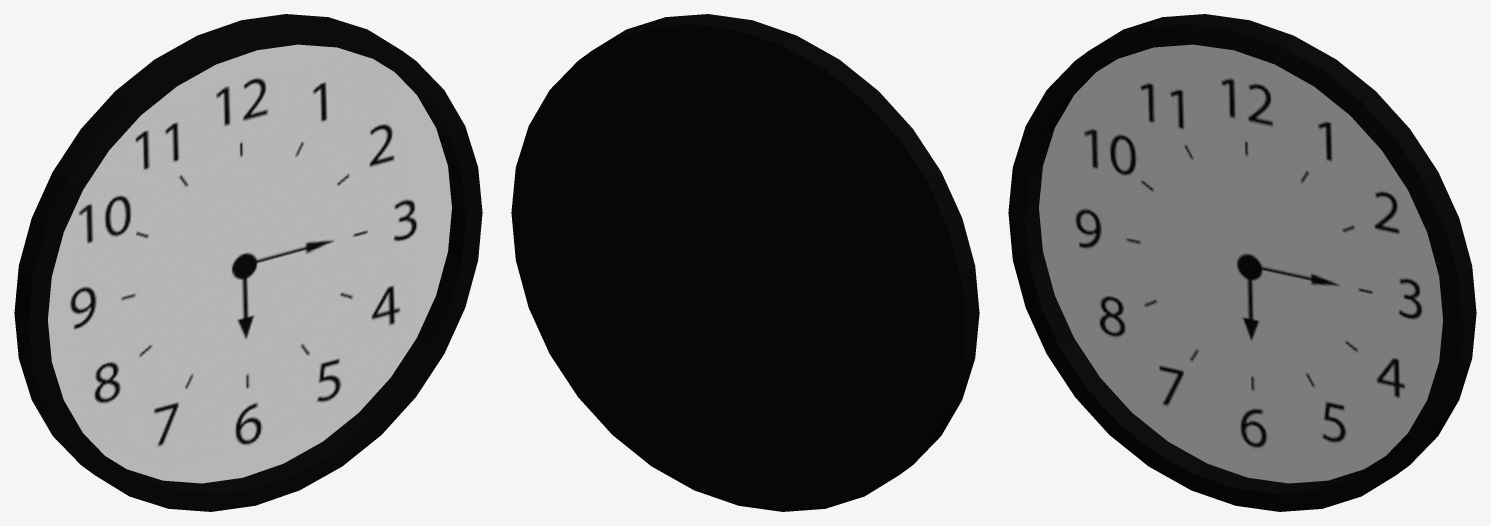
Rendered from clocknowall_ED.fbx.
The picture shows the model from 3 angles, left to right: view 1: azimuth 30°, elevation 25°; view 2: azimuth 150°, elevation 25°; view 3: azimuth 330°, elevation 25°; orthographic projection.
Parts seen in each view (by area): view 1: clock; view 2: clock; view 3: clock.
Boxes of the visible parts, box(x1,y1,x2,y2) form: clock: box(14, 14, 482, 511); clock: box(511, 14, 979, 511); clock: box(1008, 14, 1476, 511).
Size of the model in its own units: 1.8 by 1.8 by 0.1061.
1 material, 1 textured.
